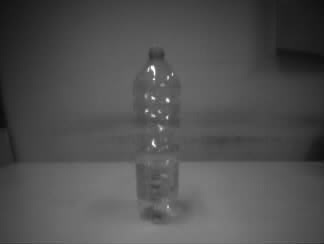Bottle: (131, 45, 181, 225)
